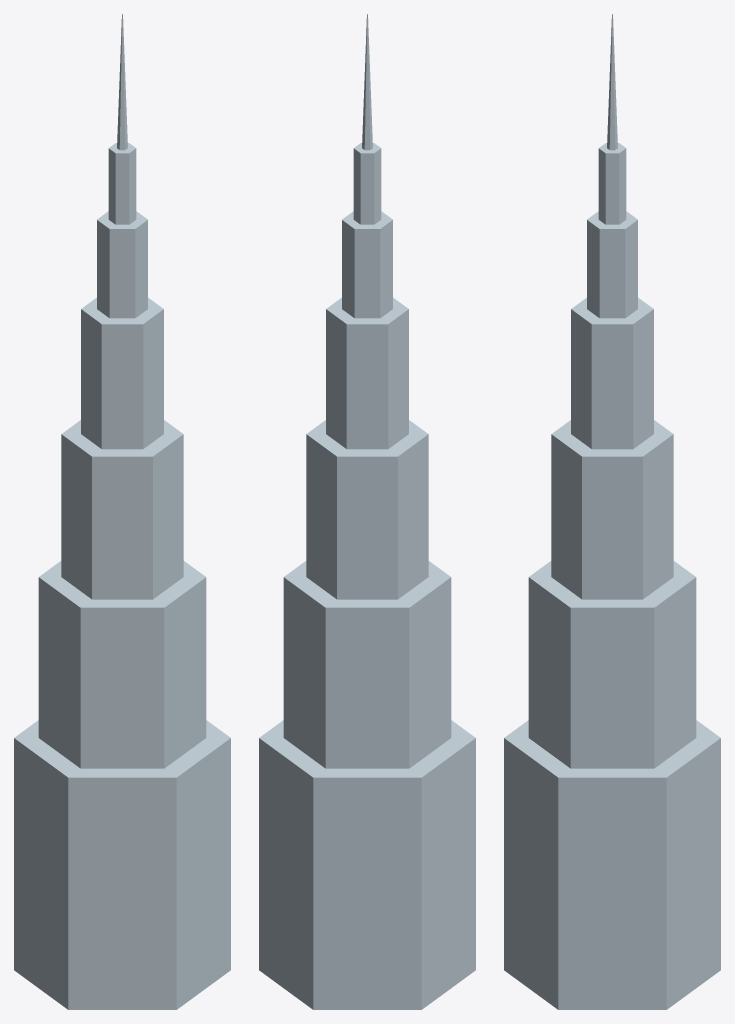
File: burj.glb
3 renders of one model, left to right at view 1: azimuth 30°, elevation 25°; view 2: azimuth 150°, elevation 25°; view 3: azimuth 270°, elevation 25°, orthographic.
Visible parts, largest first — view 1: bj_t0, bj_t1, bj_t2, bj_t3, bj_t4, bj_t5, bj_spire; view 2: bj_t0, bj_t1, bj_t2, bj_t3, bj_t4, bj_t5, bj_spire; view 3: bj_t0, bj_t1, bj_t2, bj_t3, bj_t4, bj_t5, bj_spire.
Boxes of the visible parts, x1,y1,x2,y2 form: bj_t0: [14, 720, 230, 1009]; bj_t1: [38, 561, 206, 768]; bj_t2: [61, 420, 183, 599]; bj_t3: [81, 297, 163, 449]; bj_t4: [97, 211, 147, 318]; bj_t5: [108, 143, 136, 224]; bj_spire: [117, 14, 127, 150]; bj_t0: [259, 720, 475, 1009]; bj_t1: [283, 561, 451, 768]; bj_t2: [306, 420, 428, 599]; bj_t3: [326, 297, 408, 449]; bj_t4: [342, 211, 392, 318]; bj_t5: [353, 143, 381, 224]; bj_spire: [362, 14, 372, 150]; bj_t0: [504, 720, 720, 1009]; bj_t1: [528, 561, 696, 768]; bj_t2: [551, 420, 673, 599]; bj_t3: [571, 297, 653, 449]; bj_t4: [587, 211, 637, 318]; bj_t5: [598, 143, 626, 224]; bj_spire: [607, 14, 617, 150].
Bounding box in the file's own units: 19.05 × 107 × 22.
